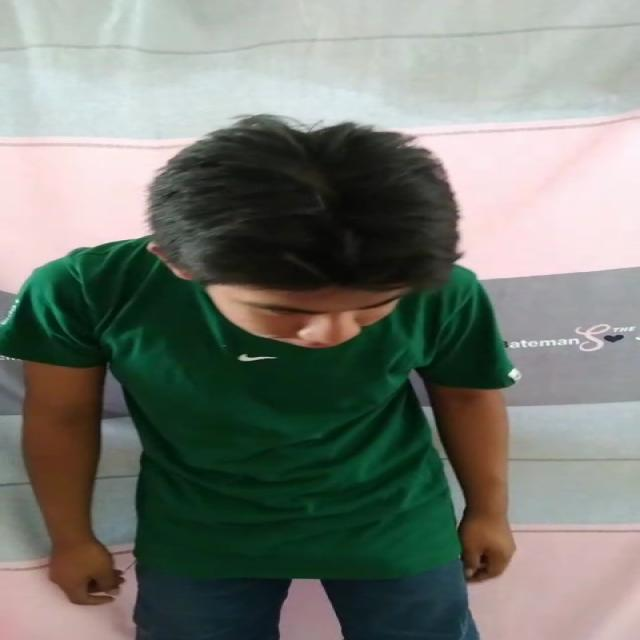9_cabeza_baja: (150, 111, 460, 349)
